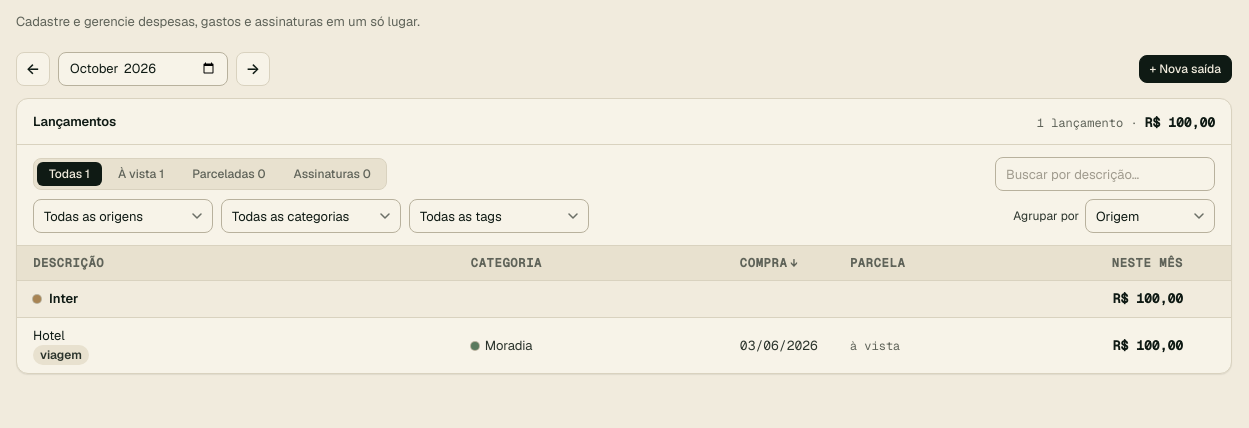
Test: SaidasPage — filtros (RF-DES-23) › a tag escolhida continua no select num mês sem tags
The width and height of the screenshot is (1249, 428).
Expected: the row "Hotel viagem Moradia 03/06/2026 à vista R$ 100,00" is shown, [17,317,1231,373]
Select "viagem" in the dropdown named "Filtrar por tag" at coordinates (499, 216), box [409,199,589,233]
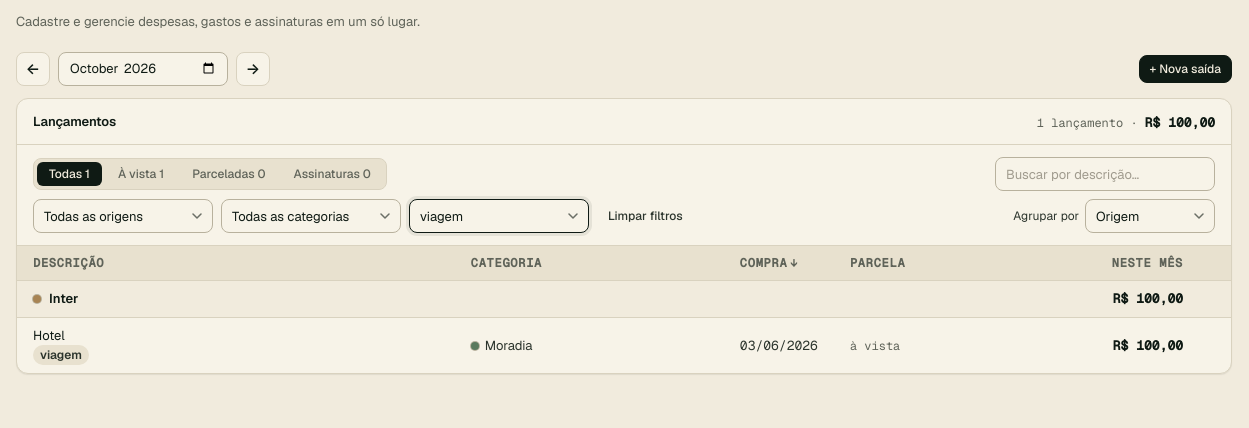
Click the button named "Próximo mês" at coordinates (253, 68), box [236,52,270,86]
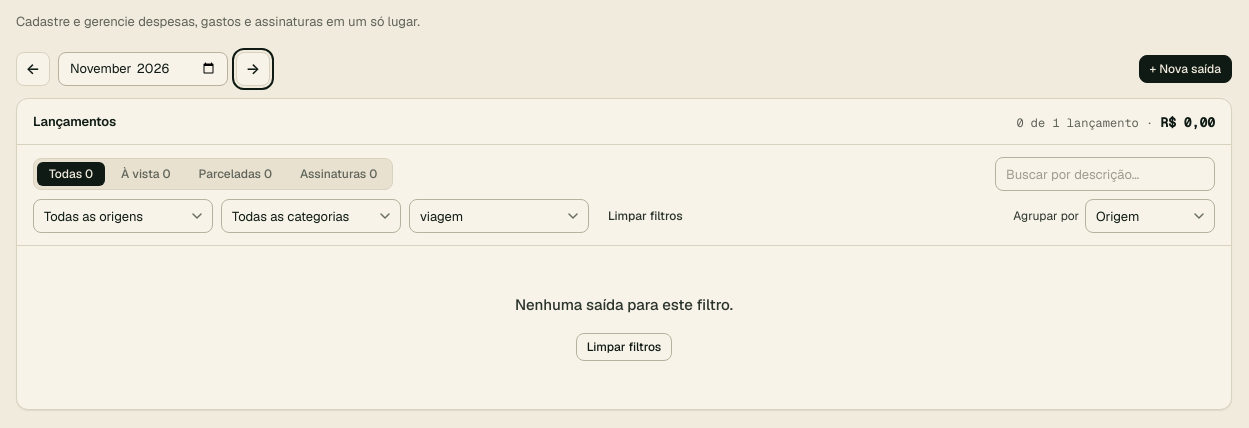
Now the text "Nenhuma saída para este filtro." is shown, box [515,294,733,316]
